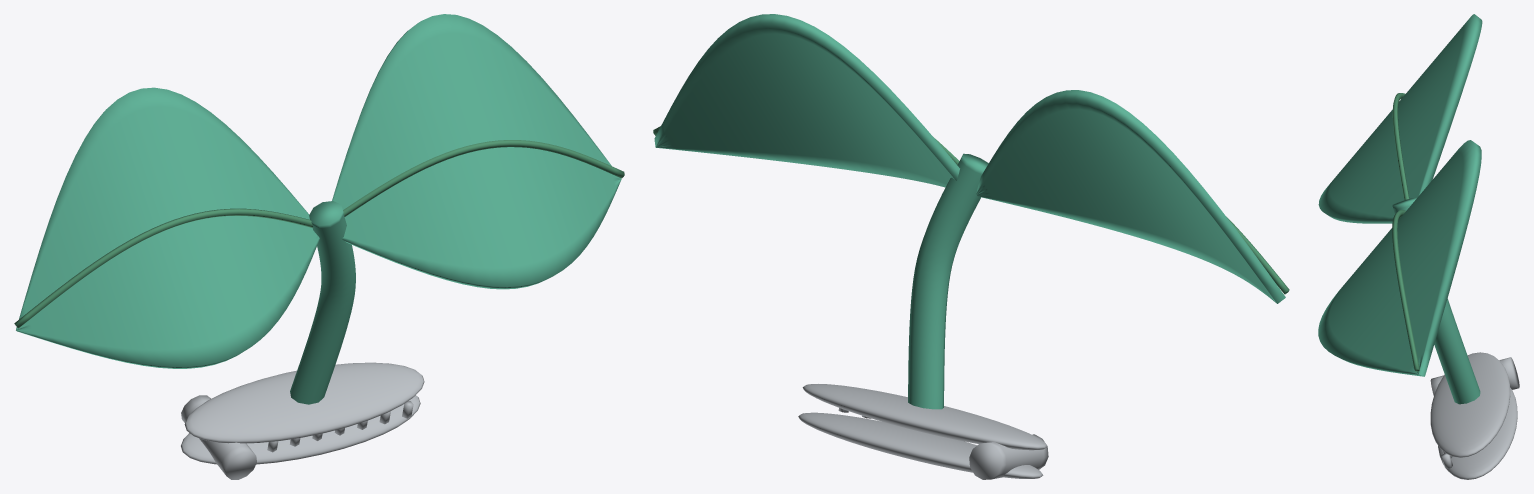
Rendered from Masculine-afro--ears-sprout.glb.
The picture shows the model from 3 angles, left to right: view 1: azimuth 30°, elevation 25°; view 2: azimuth 150°, elevation 25°; view 3: azimuth 270°, elevation 25°; orthographic projection. The views are drawn at different scales.
Visible parts, largest first — view 1: 226 extra / Accessory / mint226, 226 extra / Sprout / clip silver235, 226 extra / Sprout / leaf vein235; view 2: 226 extra / Accessory / mint226, 226 extra / Sprout / clip silver235; view 3: 226 extra / Accessory / mint226, 226 extra / Sprout / clip silver235, 226 extra / Sprout / leaf vein235.
Boxes of the visible parts, left/top/right/bottom form: 226 extra / Accessory / mint226: left=16, top=14, right=621, bottom=404; 226 extra / Sprout / clip silver235: left=181, top=362, right=424, bottom=479; 226 extra / Sprout / leaf vein235: left=14, top=140, right=624, bottom=328; 226 extra / Accessory / mint226: left=654, top=14, right=1285, bottom=409; 226 extra / Sprout / clip silver235: left=798, top=384, right=1048, bottom=479; 226 extra / Accessory / mint226: left=1318, top=14, right=1482, bottom=404; 226 extra / Sprout / clip silver235: left=1430, top=352, right=1519, bottom=479; 226 extra / Sprout / leaf vein235: left=1392, top=93, right=1419, bottom=371.
Size of the model in its own units: 0.2717 by 0.1696 by 0.0871.
